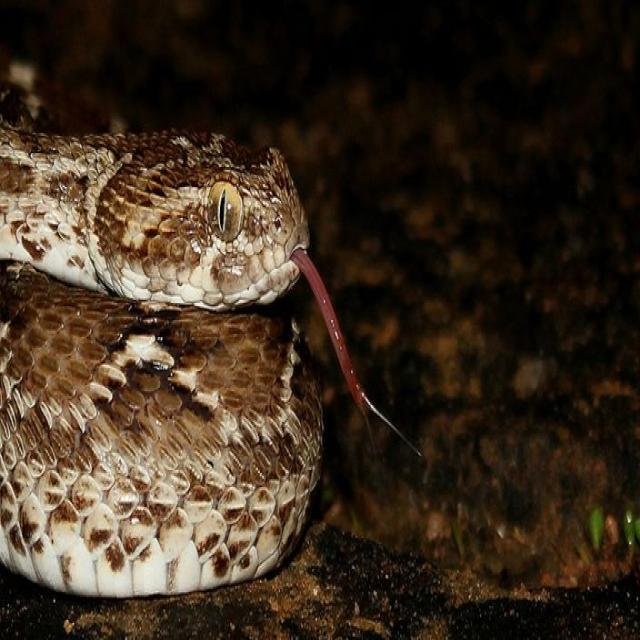Snake: (0, 79, 422, 598)
